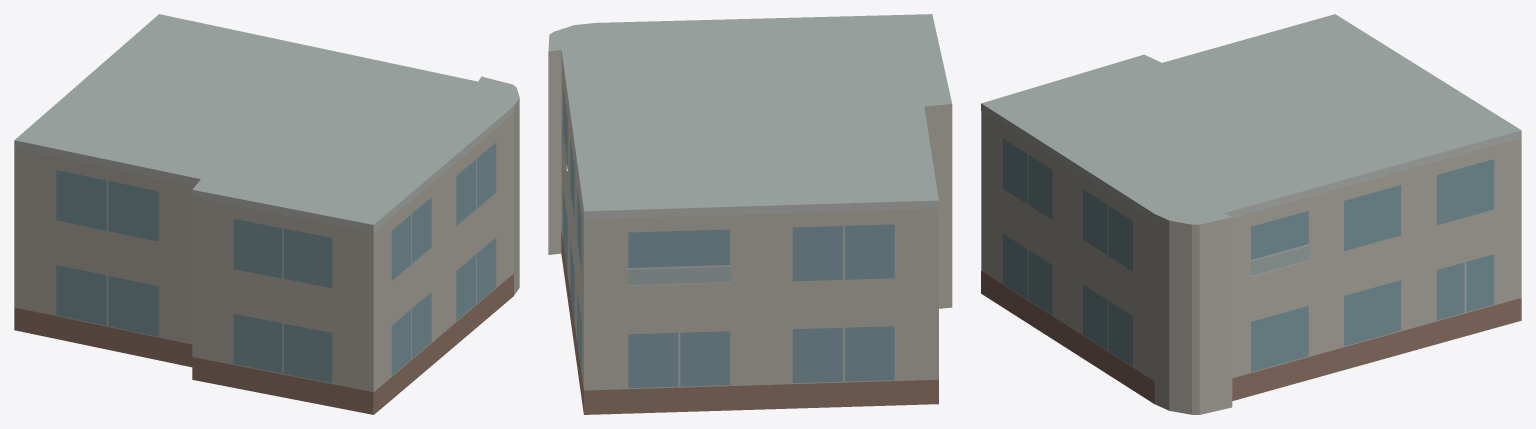
The model's file is survey-upis-32526290.glb.
The picture shows the model from 3 angles, left to right: view 1: azimuth 30°, elevation 25°; view 2: azimuth 150°, elevation 25°; view 3: azimuth 270°, elevation 25°; orthographic projection. The views are drawn at different scales.
Parts seen in each view (by area): view 1: survey-upis-32526290.tmp; view 2: survey-upis-32526290.tmp; view 3: survey-upis-32526290.tmp.
Boxes of the visible parts, left/top/right/bottom form: survey-upis-32526290.tmp: left=14, top=14, right=519, bottom=414; survey-upis-32526290.tmp: left=548, top=14, right=952, bottom=414; survey-upis-32526290.tmp: left=981, top=14, right=1521, bottom=414.
Bounding box in the file's own units: 14.49 × 6.1 × 15.71.
